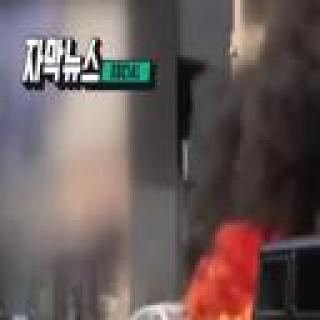fire: (201, 222, 255, 320)
